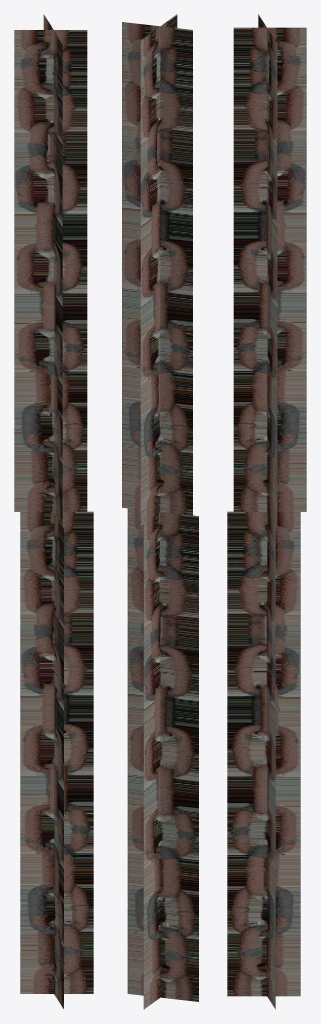
File: SM_Chain_00.fbx
3 views of the same model, side by side, from view 1: azimuth 90°, elevation 25°; view 2: azimuth 150°, elevation 25°; view 3: azimuth 270°, elevation 25° (orthographic).
Visible parts, largest first — view 1: SM_Chain_00; view 2: SM_Chain_00; view 3: SM_Chain_00.
Part boxes in pixels (<box>): SM_Chain_00: <box>14,14,93,1008</box>; SM_Chain_00: <box>122,14,198,1009</box>; SM_Chain_00: <box>227,14,306,1009</box>.
Bounding box in the file's own units: 132 × 1837 × 137.
